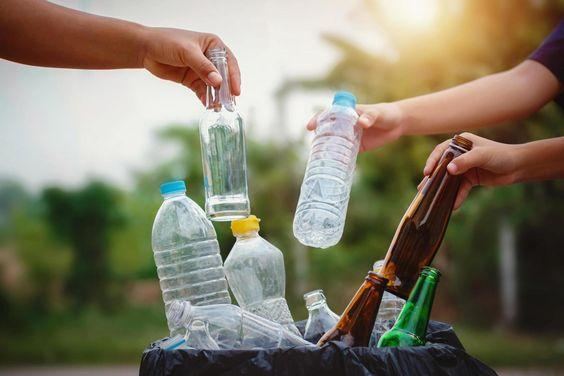HDPE: (229, 213, 262, 236), (331, 90, 358, 109), (158, 179, 188, 195)
PETE: (149, 192, 233, 330), (291, 106, 363, 251), (165, 297, 321, 352), (222, 231, 303, 331)
